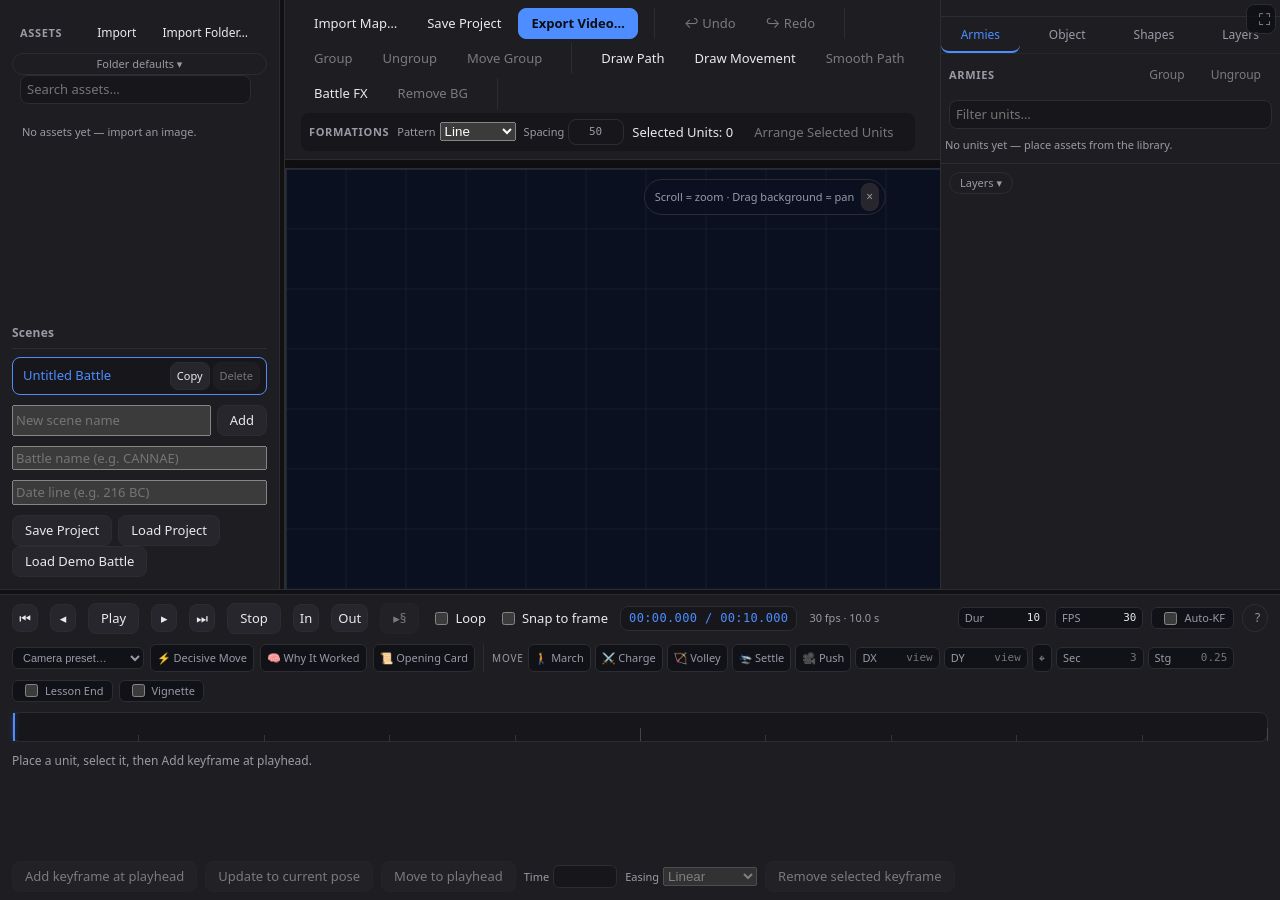
App big-screen preview expand › ✕ button and backdrop click also close the overlay
Click the button with test id "preview-expand" at (1261, 19), box [1246,4,1276,34]
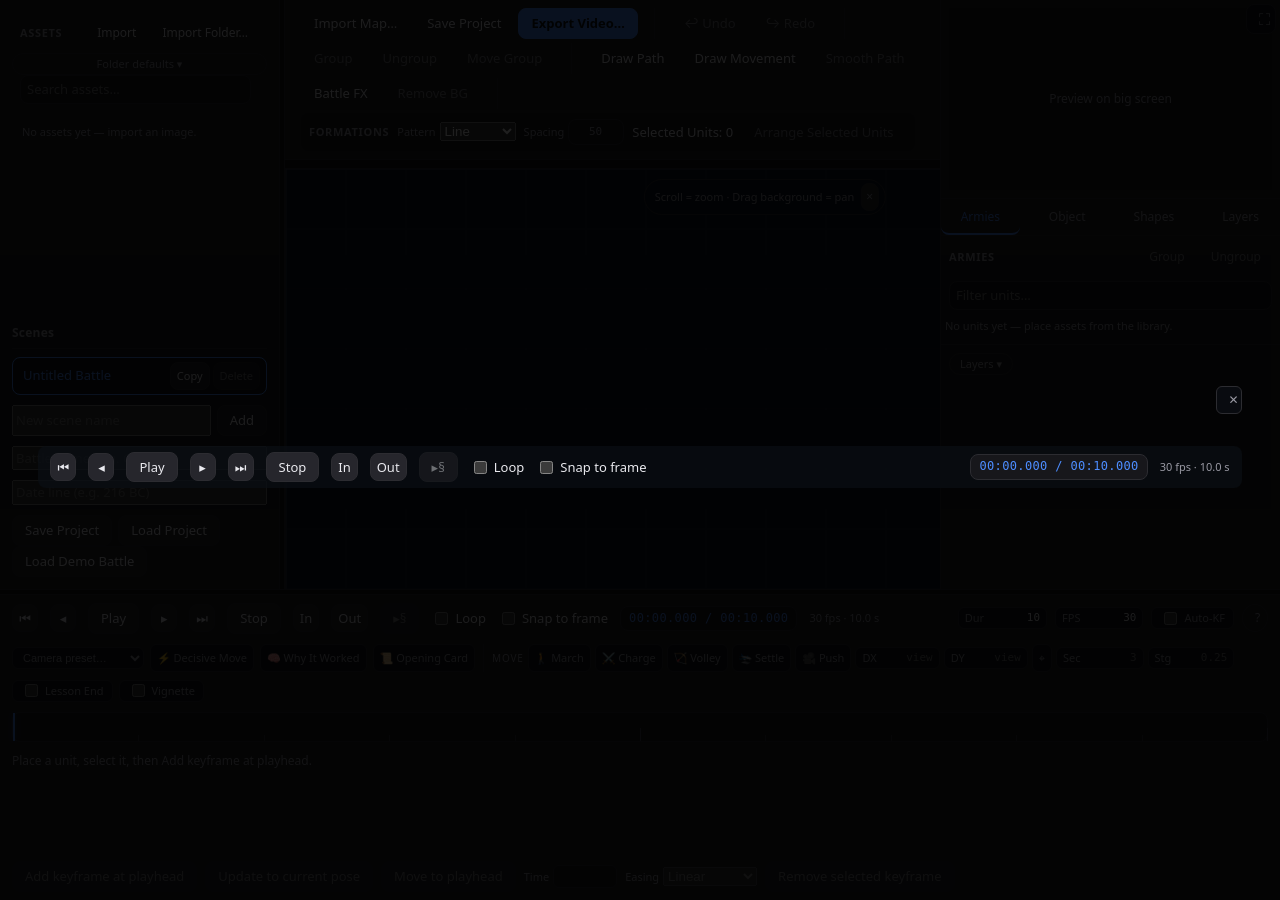
Click the button with test id "preview-collapse" at (1229, 400), box [1216,386,1242,414]
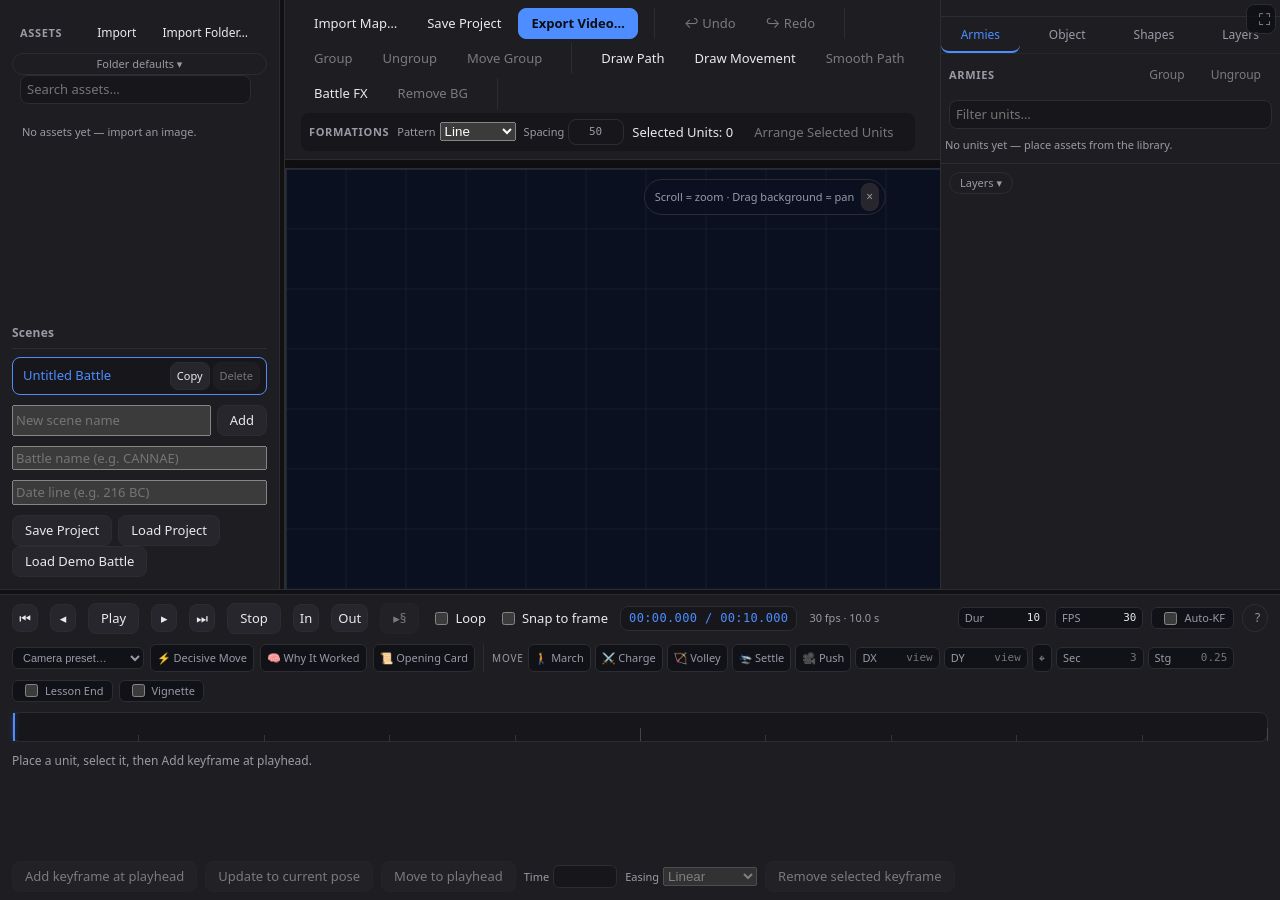
Check: the element with test id "preview-overlay" is gone
Click the button with test id "preview-expand" at (1261, 19), box [1246,4,1276,34]
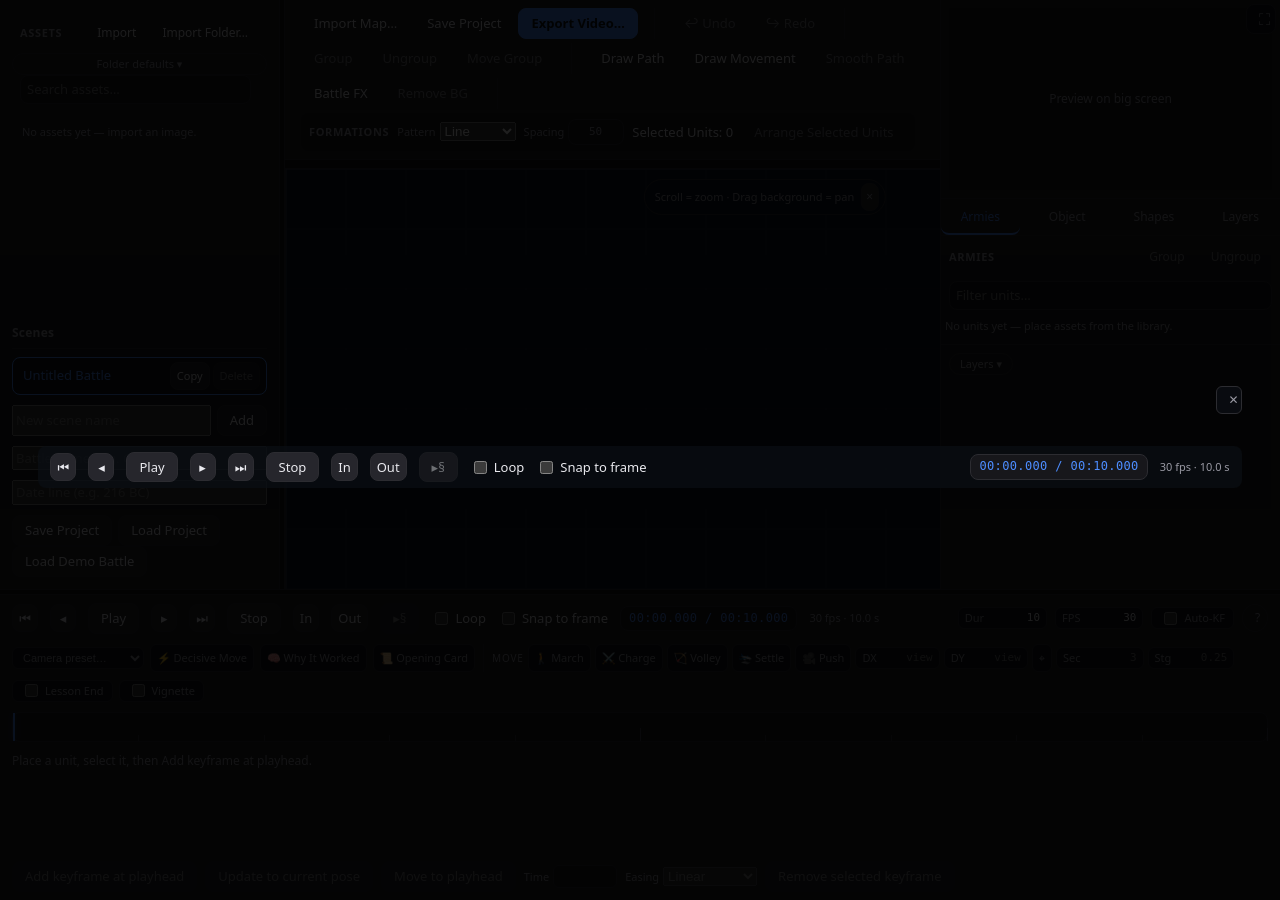
Click the element with test id "preview-overlay" at (640, 846), box [0,0,1279,899]
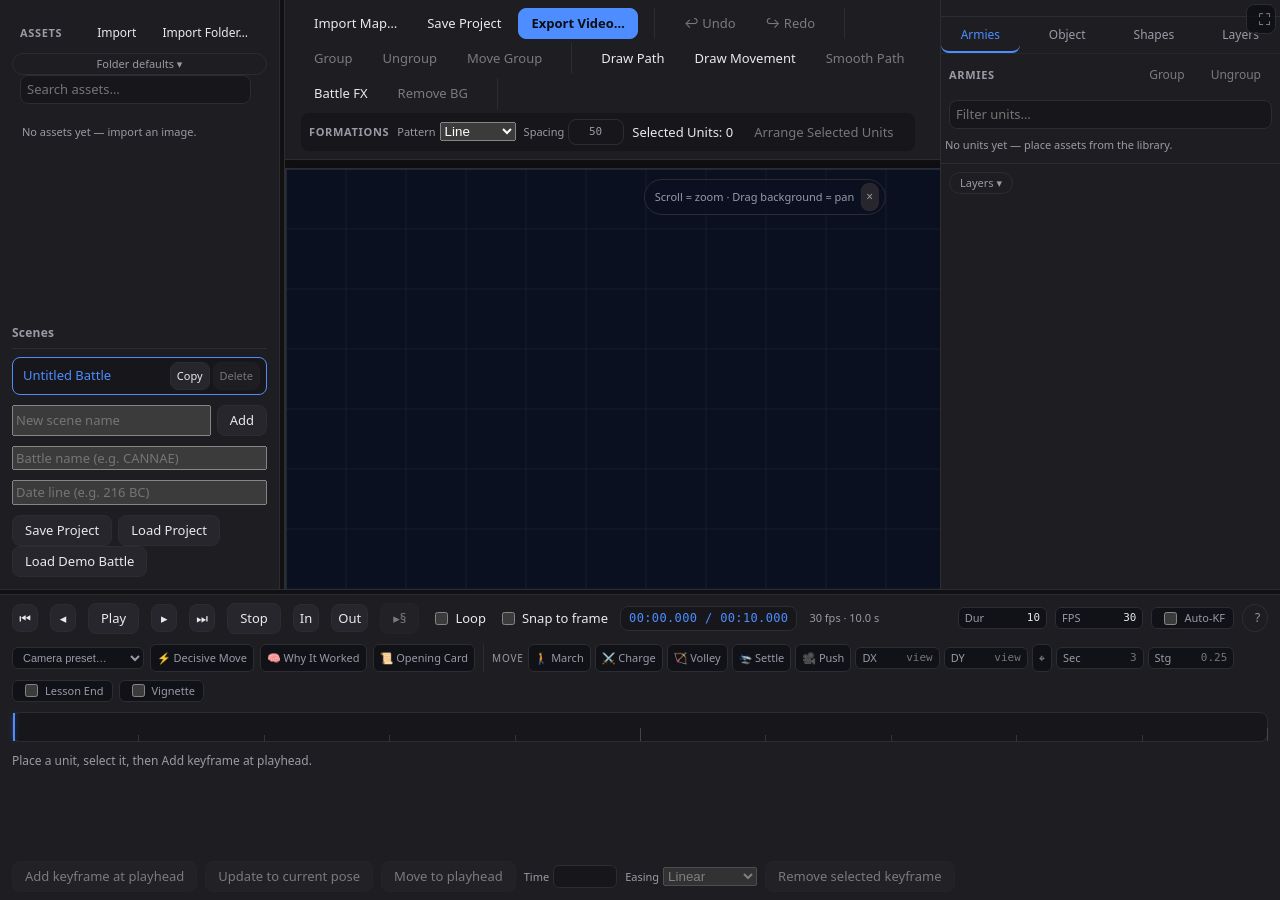
Check: the element with test id "preview-overlay" is gone
